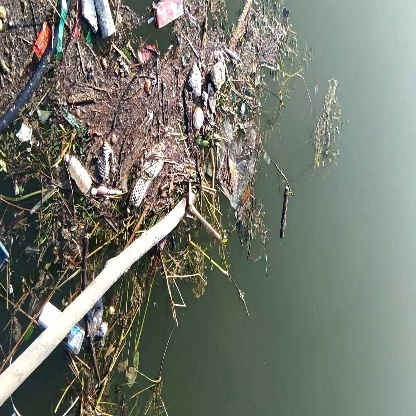branch: (274, 182, 301, 244)
